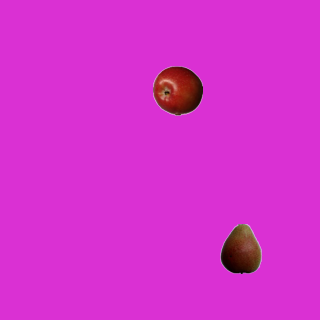Apple Braeburn: (152, 65, 202, 115)
Pear Forelle: (215, 223, 265, 273)
